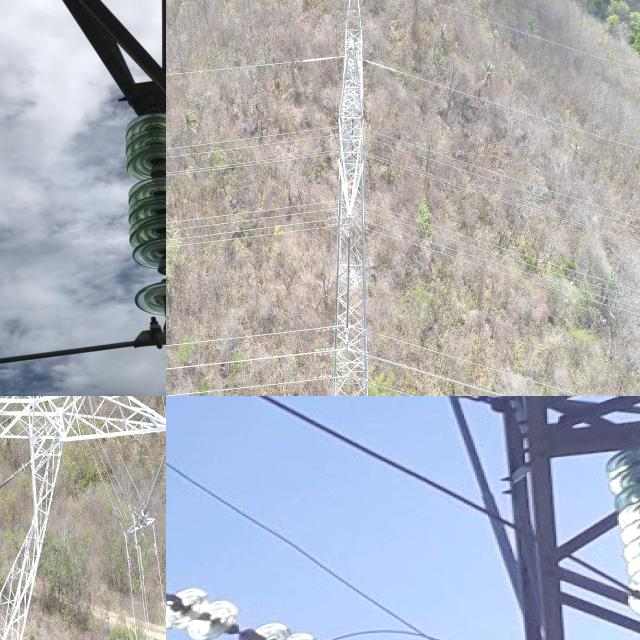杆塔: (441, 396, 640, 640), (0, 396, 166, 640), (313, 0, 405, 396)
正常绝缘子: (166, 552, 396, 640), (110, 92, 166, 340), (580, 442, 640, 619), (140, 439, 166, 523), (0, 462, 26, 493)
绝缘子破损: (233, 623, 256, 640), (145, 165, 166, 178), (156, 264, 166, 280)
